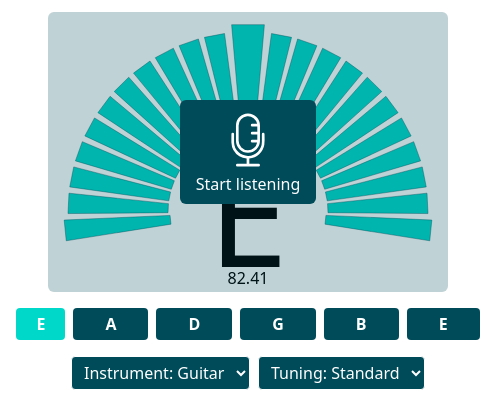
tunes E note, and auto-progresses to the A note
Check: the text "Start listening" is shown, box [196,172,300,196]
Click the button "Start listening".
click(248, 152)  # box [180,100,316,204]
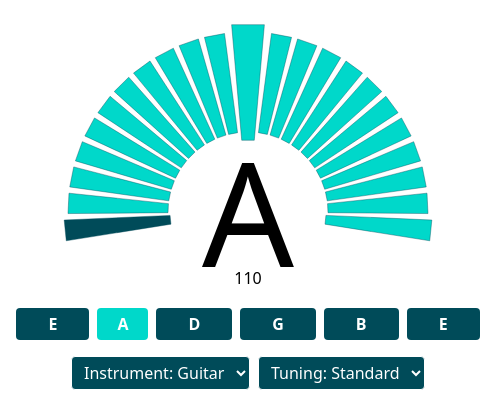
Check: the button with test id "note-E--active" is shown, box [16,308,89,340]
Check: the button with test id "note-A--active" is shown, box [97,308,148,340]
